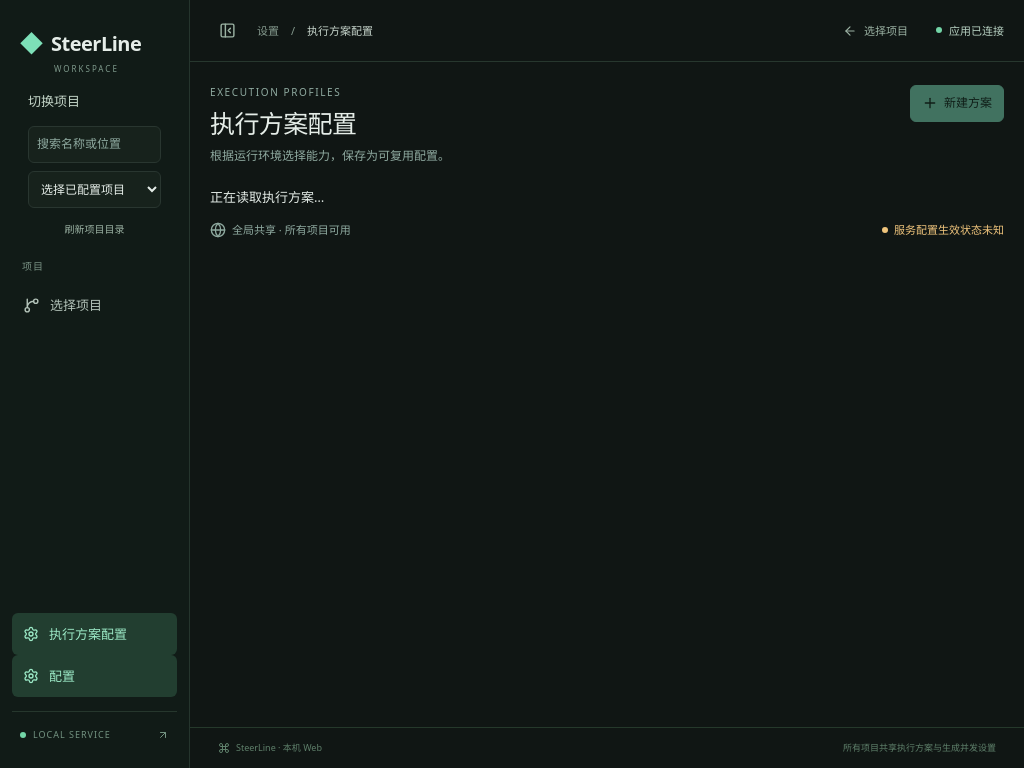
Scenario: keeps configuration available without projects and returns to project selection
The image size is (1024, 768).
Expected: the heading "执行方案配置" is shown, [210,106,356,140]
Click the link "配置" at (94, 676), box [12,655,177,697]
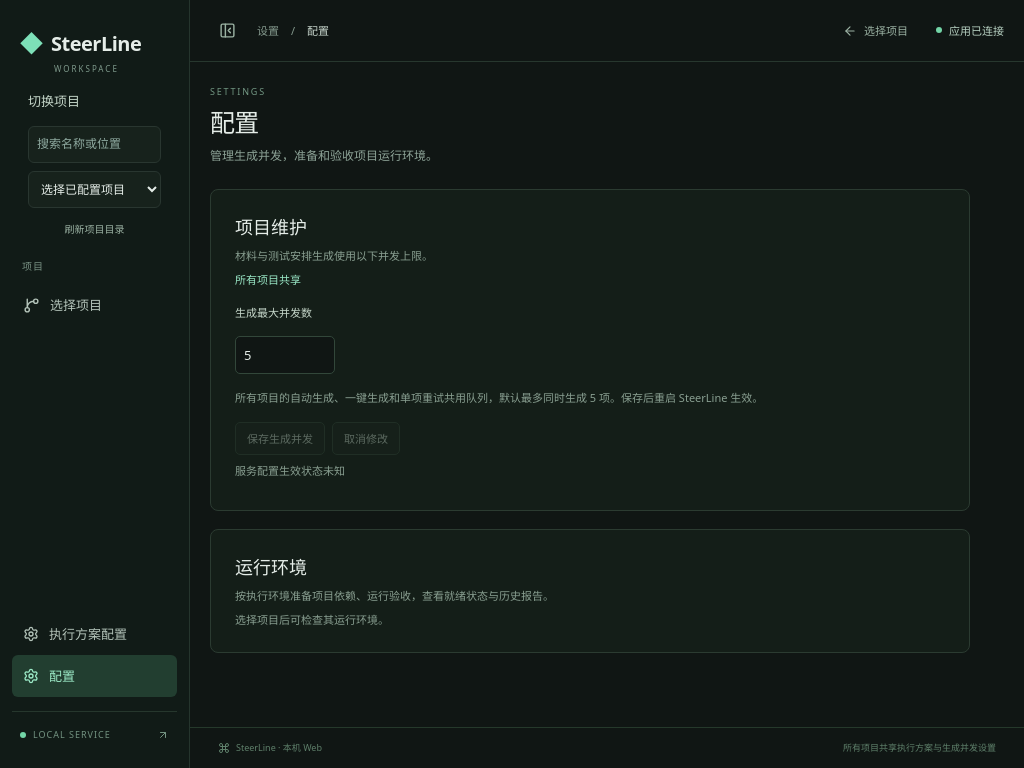
Expected: the number field labelled "生成最大并发数" holds "5", [235,336,335,374]
Expected: the text "所有项目共享" is shown, [235,272,301,287]
